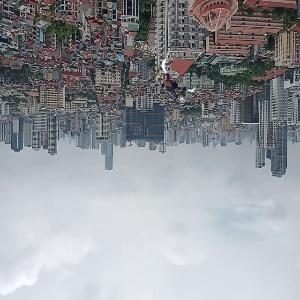drone: (155, 63, 199, 107)
